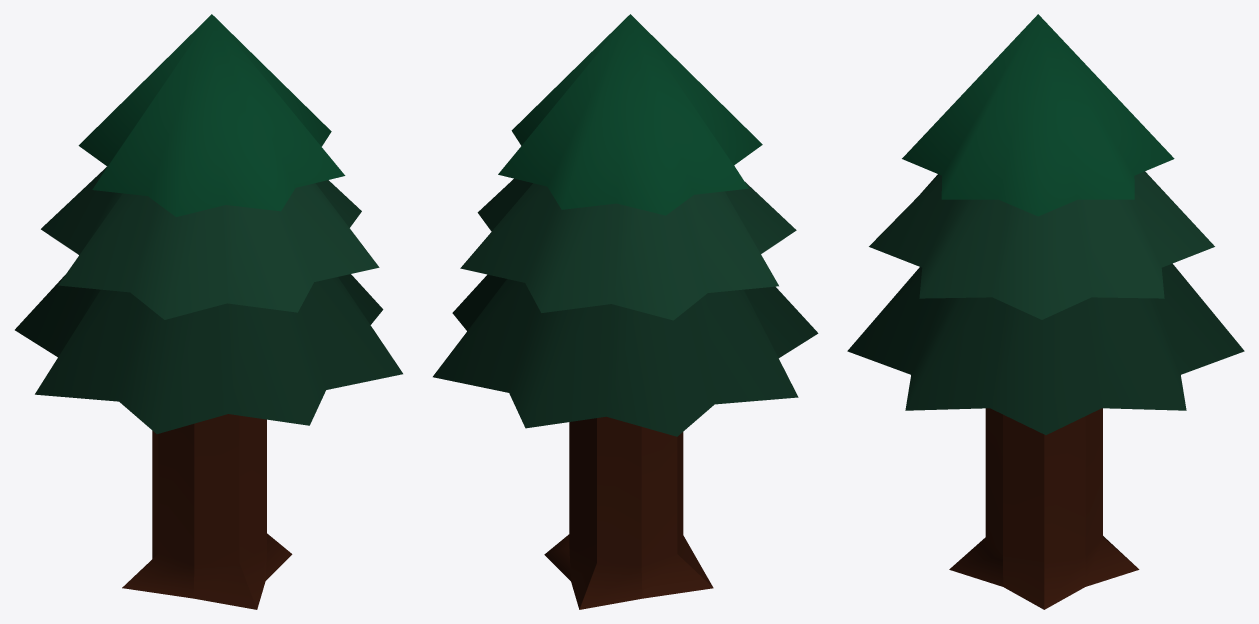
The model's file is F.arvore2.fbx.
3 views of the same model, side by side, from view 1: azimuth 30°, elevation 25°; view 2: azimuth 150°, elevation 25°; view 3: azimuth 270°, elevation 25° (orthographic).
Parts seen in each view (by area): view 1: pasted__pCone2; view 2: pasted__pCone2; view 3: pasted__pCone2.
Boxes of the visible parts, x1=… form: pasted__pCone2: x1=15, y1=14, x2=402, y2=609; pasted__pCone2: x1=433, y1=14, x2=818, y2=609; pasted__pCone2: x1=847, y1=14, x2=1244, y2=609.
Size of the model in its own units: 3.65 by 5.62 by 3.65.
